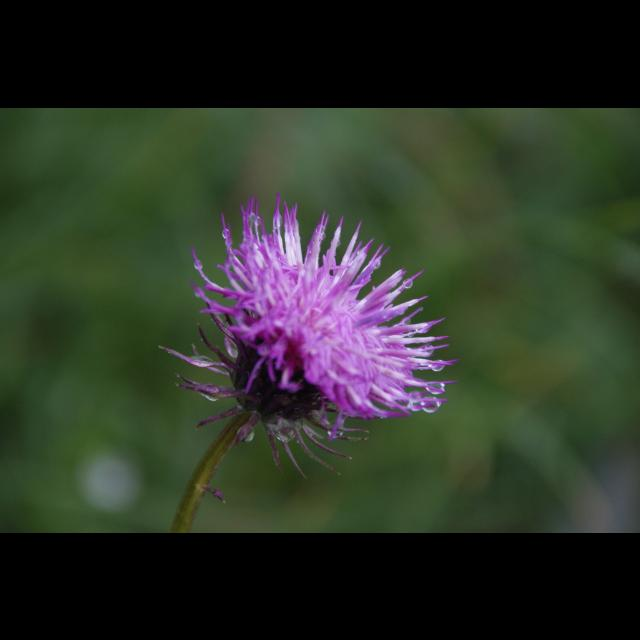Flower: (158, 188, 458, 480)
